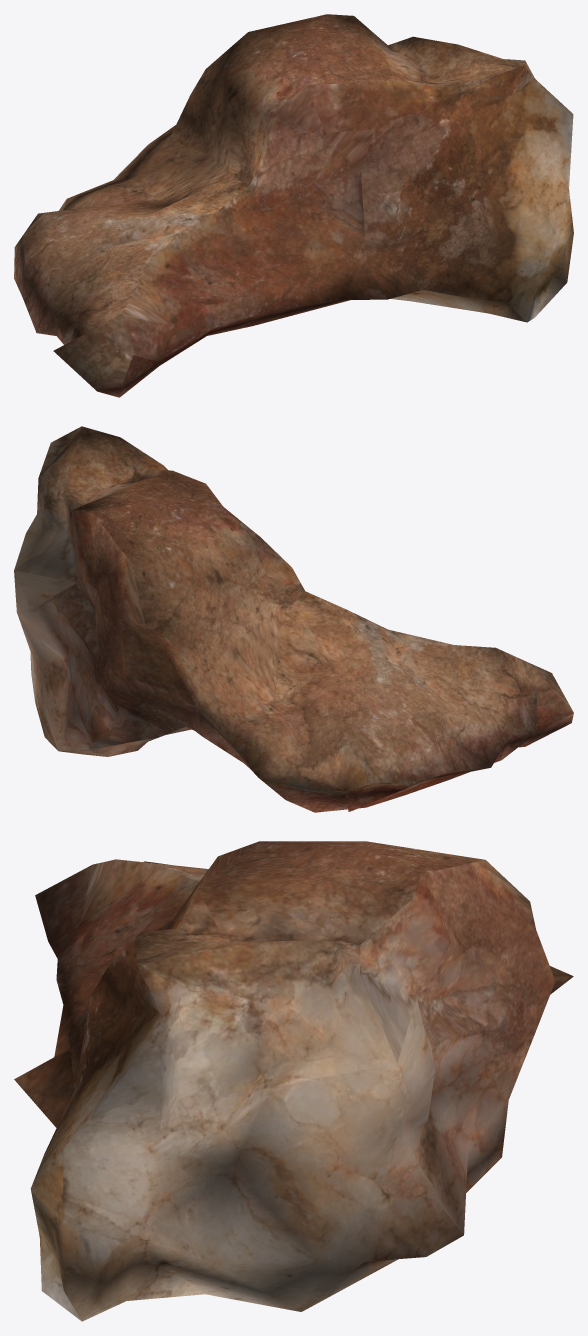
Rendered from stone_01_low.glb.
3 renders of one model, top to bottom at view 1: azimuth 30°, elevation 25°; view 2: azimuth 150°, elevation 25°; view 3: azimuth 270°, elevation 25°, orthographic. The views are drawn at different scales.
Parts seen in each view (by area): view 1: stone_01_low; view 2: stone_01_low; view 3: stone_01_low.
Boxes of the visible parts, box(x1,y1,x2,y2) form: stone_01_low: box(14, 14, 573, 397); stone_01_low: box(14, 426, 573, 812); stone_01_low: box(14, 841, 573, 1321).
Size of the model in its own units: 0.1475 by 0.0713 by 0.0902.
1 material, 1 textured.
